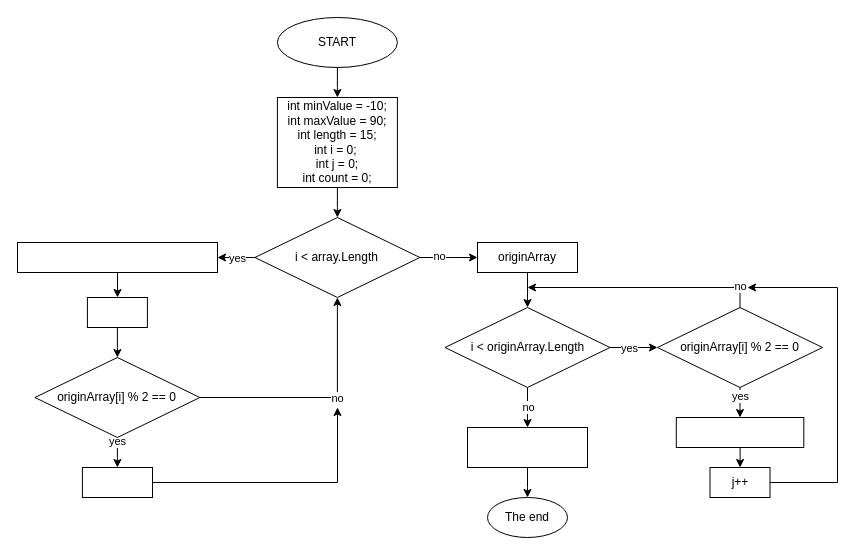
This 863x555 diagram has some shape labels left out. The shapes that lost their labels are listed below. From the top down, each one's centre as x and y in pixels, then its label:
(117,257): originArray[i] = new Random().Next (minValue, maxValue)
(116,312): i++
(527,447): Get arrayOfEvenNumbers
(739,432): arrayOfEvenNumbers[j] = originArray[i]
(116,482): count++
